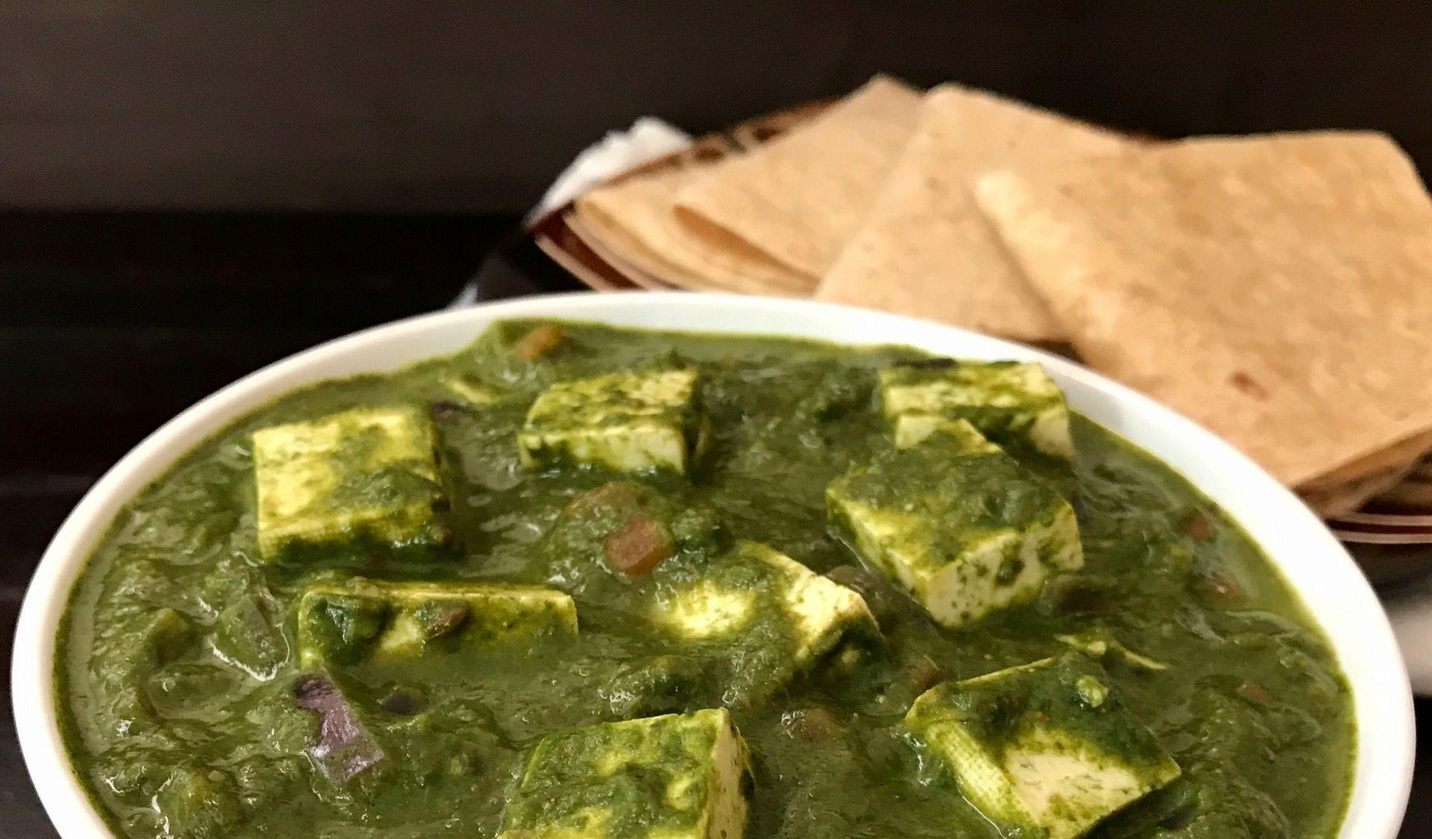PalakPaneer: (66, 319, 1326, 839)
